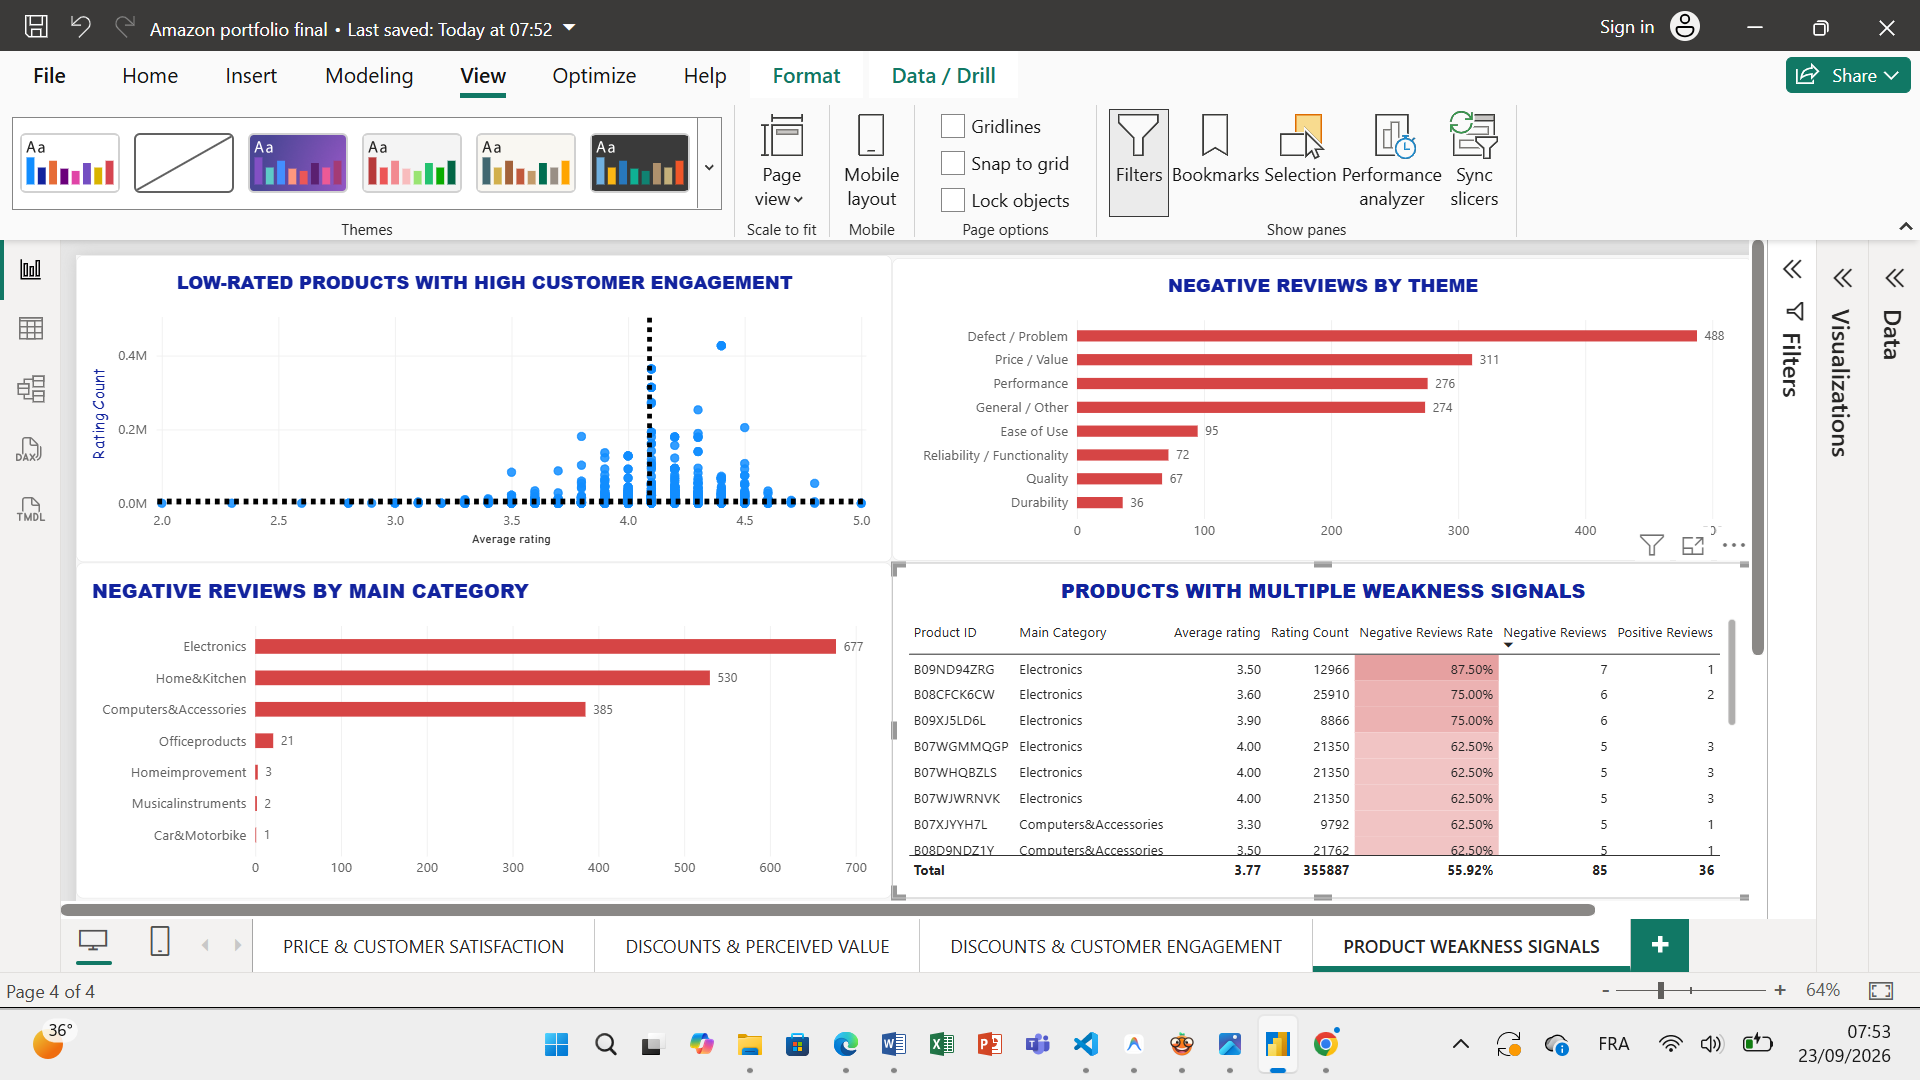

The page's visual inventory and layout, read from the dashboard file:
{"tool":"powerbi","page":{"name":"PRODUCT WEAKNESS SIGNALS","canvas":[1920,1080],"ordinal":3},"visuals":[{"type":"scatterChart","title":"LOW-RATED PRODUCTS WITH HIGH CUSTOMER ENGAGEMENT","fields":{"Category":["Products.product_id"],"X":["Avg(Products.rating)"],"Y":["Sum(Products.rating_count)"]},"box":[0,0,850,320.3],"z":0},{"type":"clusteredBarChart","title":"NEGATIVE REVIEWS BY THEME","fields":{"Category":["reviews_analysis.review_theme"],"Y":["Products.Negative Reviews Count"]},"box":[850,3.1,896.9,315.6],"z":1000},{"type":"clusteredBarChart","title":"NEGATIVE REVIEWS BY MAIN CATEGORY","fields":{"Category":["Products.Main category"],"Y":["Products.Negative Reviews Count"]},"box":[0,320.3,850,350],"z":2000},{"type":"tableEx","title":"PRODUCTS WITH MULTIPLE WEAKNESS SIGNALS","fields":{"Values":["Products.product_id","Products.Main category","Avg(Products.rating)","Sum(Products.rating_count)","reviews_analysis.negative rate reviews","Products.Negative Reviews Count","reviews_analysis.Positive Reviews Count"]},"box":[850,320.3,896.9,350],"z":3000}]}

Visuals, with their boxes on the page's 1920x1080 design canvas (x1, y1, x2, y2). These are canvas units, not pixel positions in the 1920x1080 screenshot, which may show the page scaled, cropped or inside an application window:
"LOW-RATED PRODUCTS WITH HIGH CUSTOMER ENGAGEMENT" scatterChart: [left=0, top=0, right=850, bottom=320]
"NEGATIVE REVIEWS BY THEME" clusteredBarChart: [left=850, top=3, right=1747, bottom=319]
"NEGATIVE REVIEWS BY MAIN CATEGORY" clusteredBarChart: [left=0, top=320, right=850, bottom=670]
"PRODUCTS WITH MULTIPLE WEAKNESS SIGNALS" tableEx: [left=850, top=320, right=1747, bottom=670]
